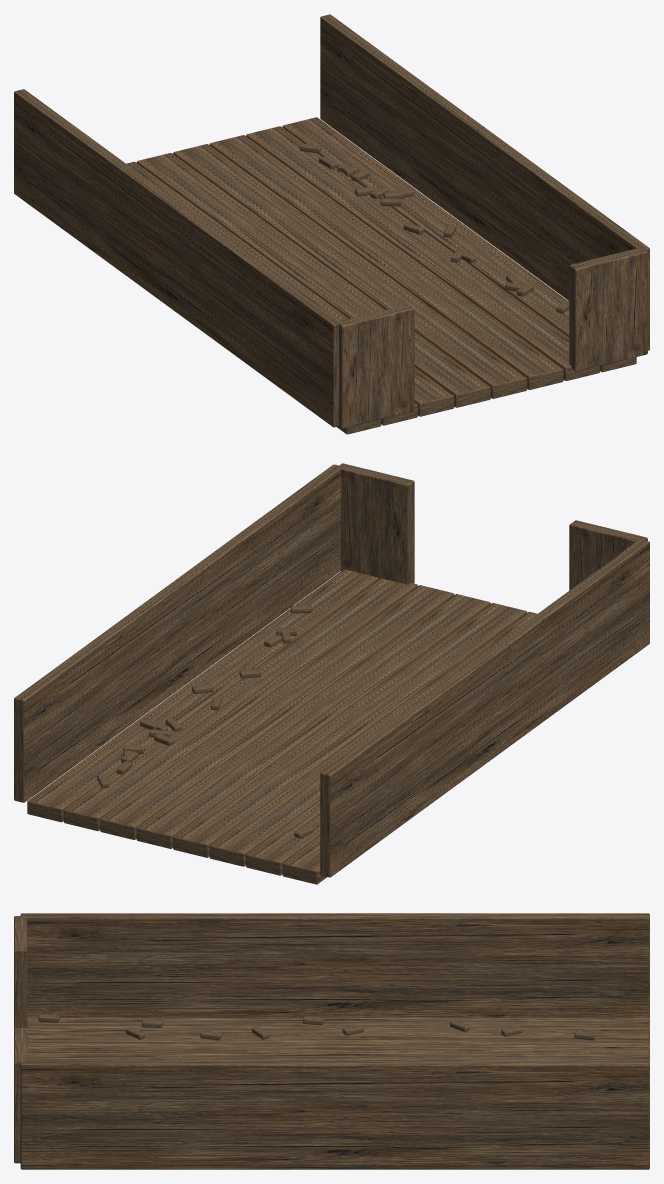
Rendered from alcove_connected.glb.
3 views of the same model, one above another, from view 1: azimuth 30°, elevation 25°; view 2: azimuth 150°, elevation 25°; view 3: azimuth 270°, elevation 25° (orthographic).
Parts seen in each view (by area): view 1: alcove_connected_mesh; view 2: alcove_connected_mesh; view 3: alcove_connected_mesh.
Boxes of the visible parts, x1=… form: alcove_connected_mesh: x1=14, y1=14, x2=649, y2=434; alcove_connected_mesh: x1=14, y1=463, x2=649, y2=884; alcove_connected_mesh: x1=14, y1=913, x2=649, y2=1169.
Bounding box in the file's own units: 4.35 × 1.48 × 7.68.
1 material, 1 textured.
